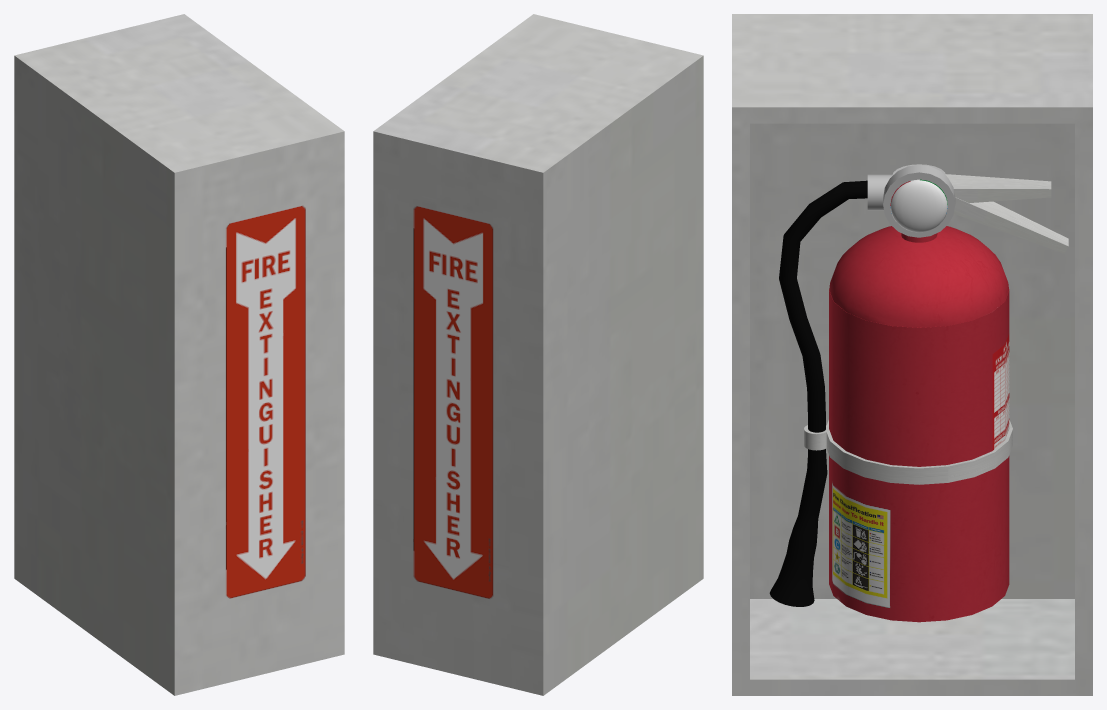
The model's file is ExtinguisherWall.fbx.
The picture shows the model from 3 angles, left to right: view 1: azimuth 30°, elevation 25°; view 2: azimuth 150°, elevation 25°; view 3: azimuth 270°, elevation 25°; orthographic projection. The views are drawn at different scales.
Visible parts, largest first — view 1: WallCase; view 2: WallCase; view 3: WallCase, Body, Hose, Bracket, pCube2, GuageLens, pCube1, GuageHousing, pCylinder5.
Part boxes in pixels (x1,y1,x2,y2): WallCase: [14, 14, 344, 695]; WallCase: [373, 14, 703, 695]; WallCase: [732, 14, 1092, 695]; Body: [829, 226, 1009, 622]; Hose: [769, 180, 867, 606]; Bracket: [826, 419, 1012, 484]; pCube2: [954, 197, 1068, 253]; GuageLens: [890, 179, 947, 232]; pCube1: [945, 174, 1051, 202]; GuageHousing: [883, 164, 955, 237]; pCylinder5: [867, 174, 892, 210].
Bounding box in the file's own units: 0.6125 × 1.8 × 1.
Materials: 7 (4 with a texture image).
